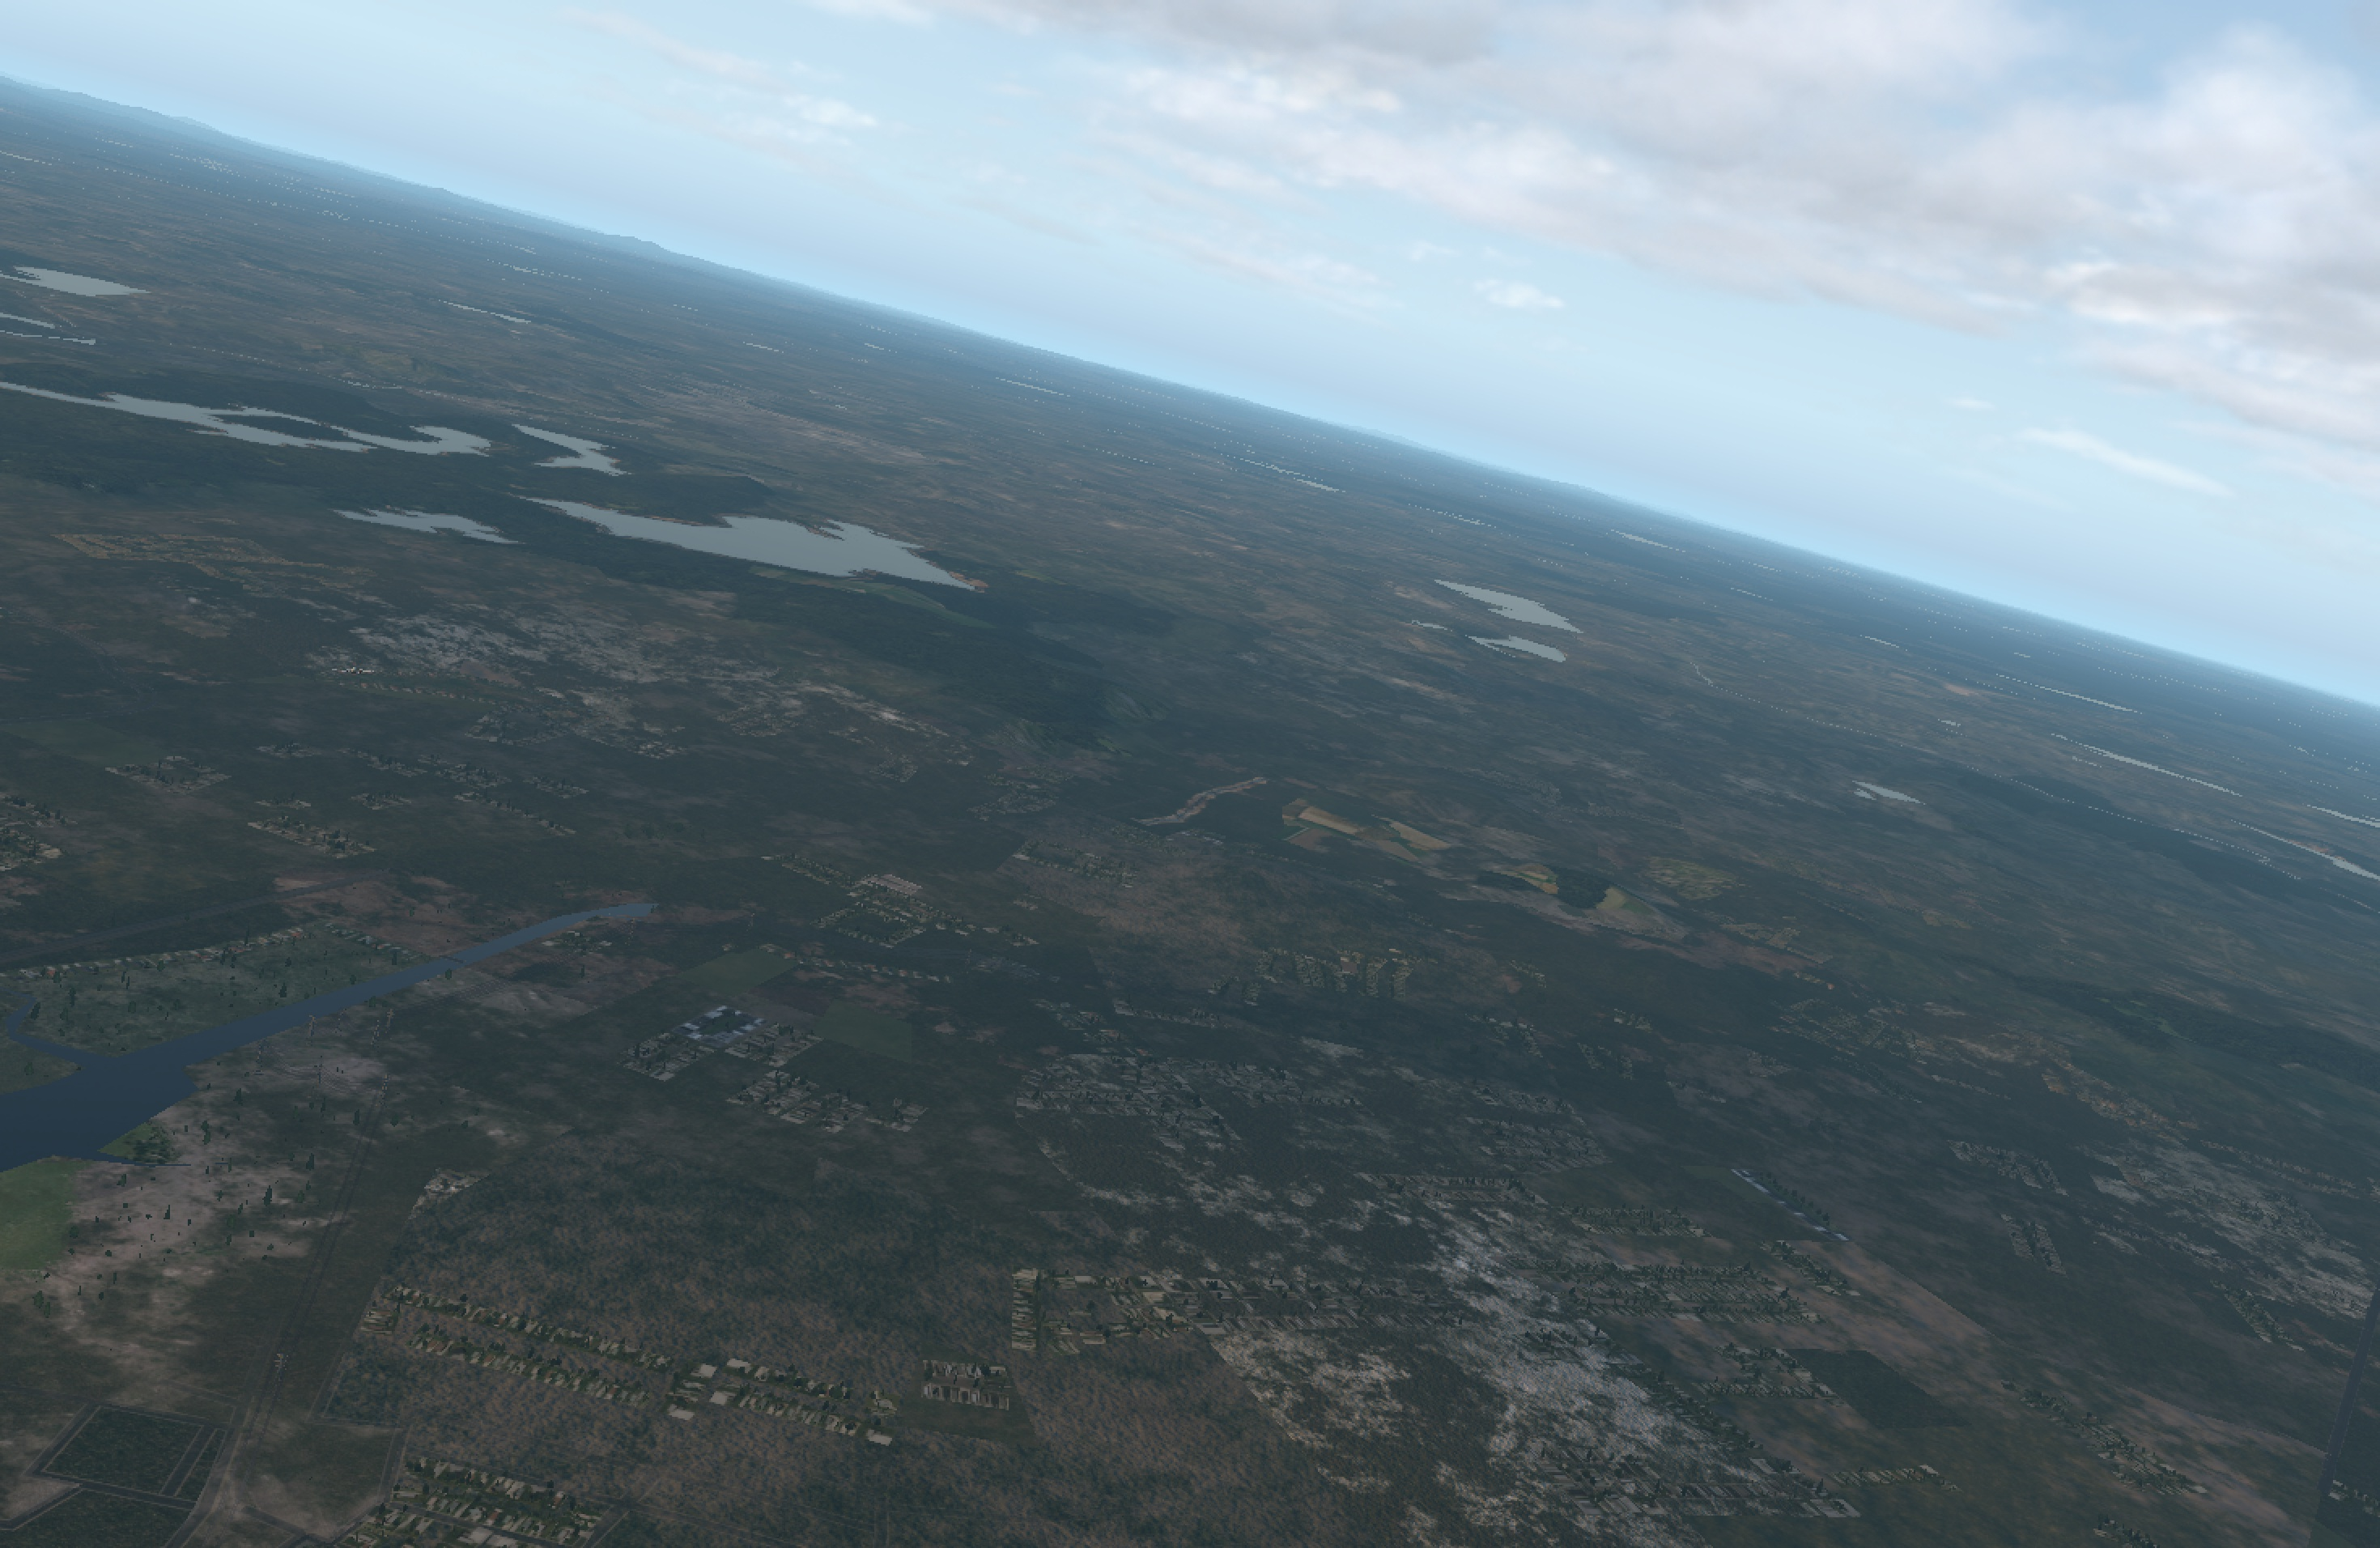aircraft: (331, 665, 376, 680)
